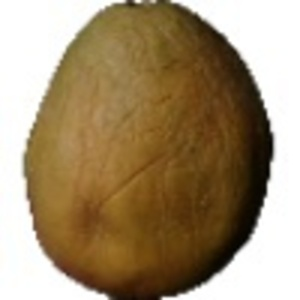mamão: (22, 5, 275, 297)
